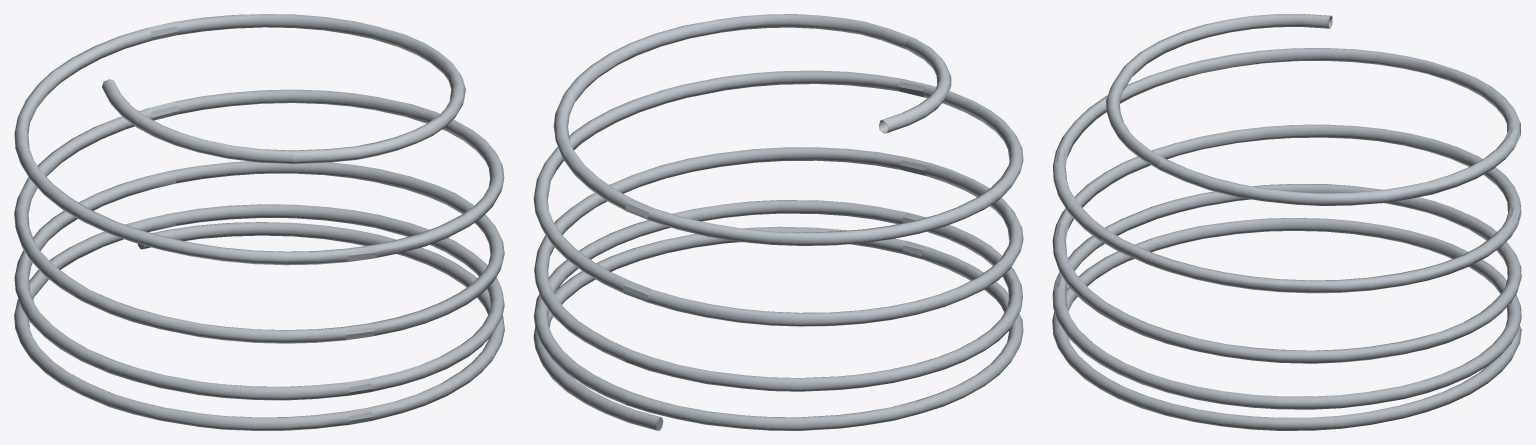
The model's file is Spring.FBX.
The picture shows the model from 3 angles, left to right: view 1: azimuth 30°, elevation 25°; view 2: azimuth 150°, elevation 25°; view 3: azimuth 270°, elevation 25°; orthographic projection. The views are drawn at different scales.
Parts seen in each view (by area): view 1: XOSpring; view 2: XOSpring; view 3: XOSpring.
Boxes of the visible parts, bbox=[...] form: XOSpring: bbox=[14, 14, 504, 430]; XOSpring: bbox=[533, 14, 1023, 430]; XOSpring: bbox=[1052, 14, 1521, 430].
Size of the model in its own units: 1.7 by 1.04 by 1.7.
